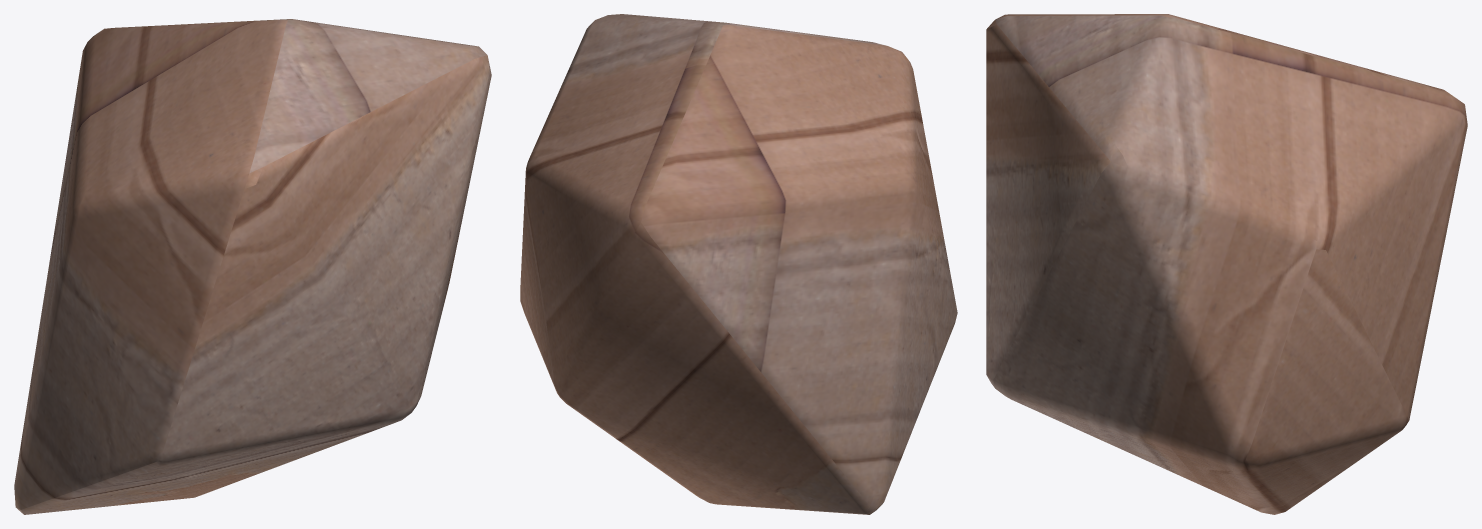
Rendered from TOMB_DECOR_ROCKS_001.obj.
3 views of the same model, side by side, from view 1: azimuth 30°, elevation 25°; view 2: azimuth 150°, elevation 25°; view 3: azimuth 270°, elevation 25° (orthographic). The views are drawn at different scales.
Parts seen in each view (by area): view 1: TOMB_DECOR_ROCKS_001; view 2: TOMB_DECOR_ROCKS_001; view 3: TOMB_DECOR_ROCKS_001.
Boxes of the visible parts, bbox=[...] form: TOMB_DECOR_ROCKS_001: bbox=[14, 19, 491, 514]; TOMB_DECOR_ROCKS_001: bbox=[520, 14, 957, 514]; TOMB_DECOR_ROCKS_001: bbox=[986, 14, 1467, 514].
Size of the model in its own units: 0.5575 by 0.6336 by 0.534.
